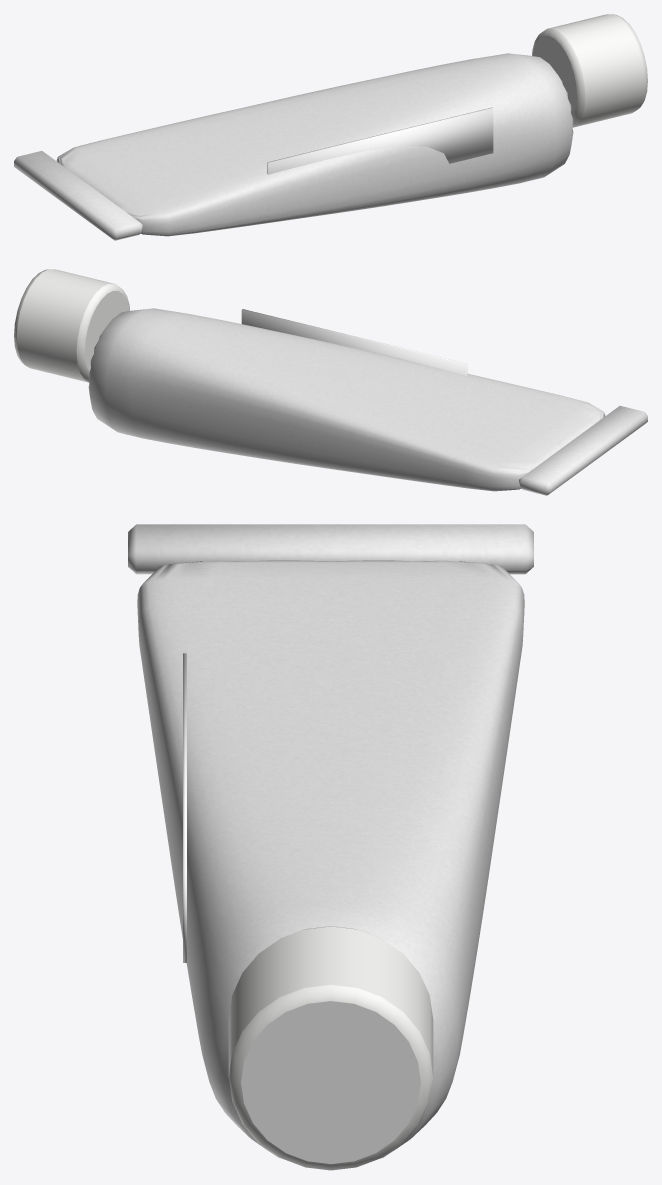
The picture shows the model from 3 angles, top to bottom: view 1: azimuth 30°, elevation 25°; view 2: azimuth 150°, elevation 25°; view 3: azimuth 270°, elevation 25°; orthographic projection. The views are drawn at different scales.
Parts seen in each view (by area): view 1: tube_body, tube_cap, tube_label, tube_crimp; view 2: tube_body, tube_cap, tube_crimp, tube_label; view 3: tube_body, tube_cap, tube_crimp, tube_label.
Boxes of the visible parts, bbox=[...] form: tube_body: bbox=[56, 53, 573, 236]; tube_cap: bbox=[532, 14, 647, 127]; tube_label: bbox=[267, 107, 493, 174]; tube_crimp: bbox=[14, 151, 142, 240]; tube_body: bbox=[88, 308, 605, 491]; tube_cap: bbox=[14, 269, 129, 382]; tube_crimp: bbox=[519, 406, 647, 495]; tube_label: bbox=[241, 309, 467, 375]; tube_body: bbox=[137, 560, 524, 1158]; tube_cap: bbox=[228, 926, 433, 1170]; tube_crimp: bbox=[128, 524, 533, 574]; tube_label: bbox=[183, 653, 186, 962].
Size of the model in its own units: 16 by 3.57 by 5.
Materials: 3 (1 with a texture image).
